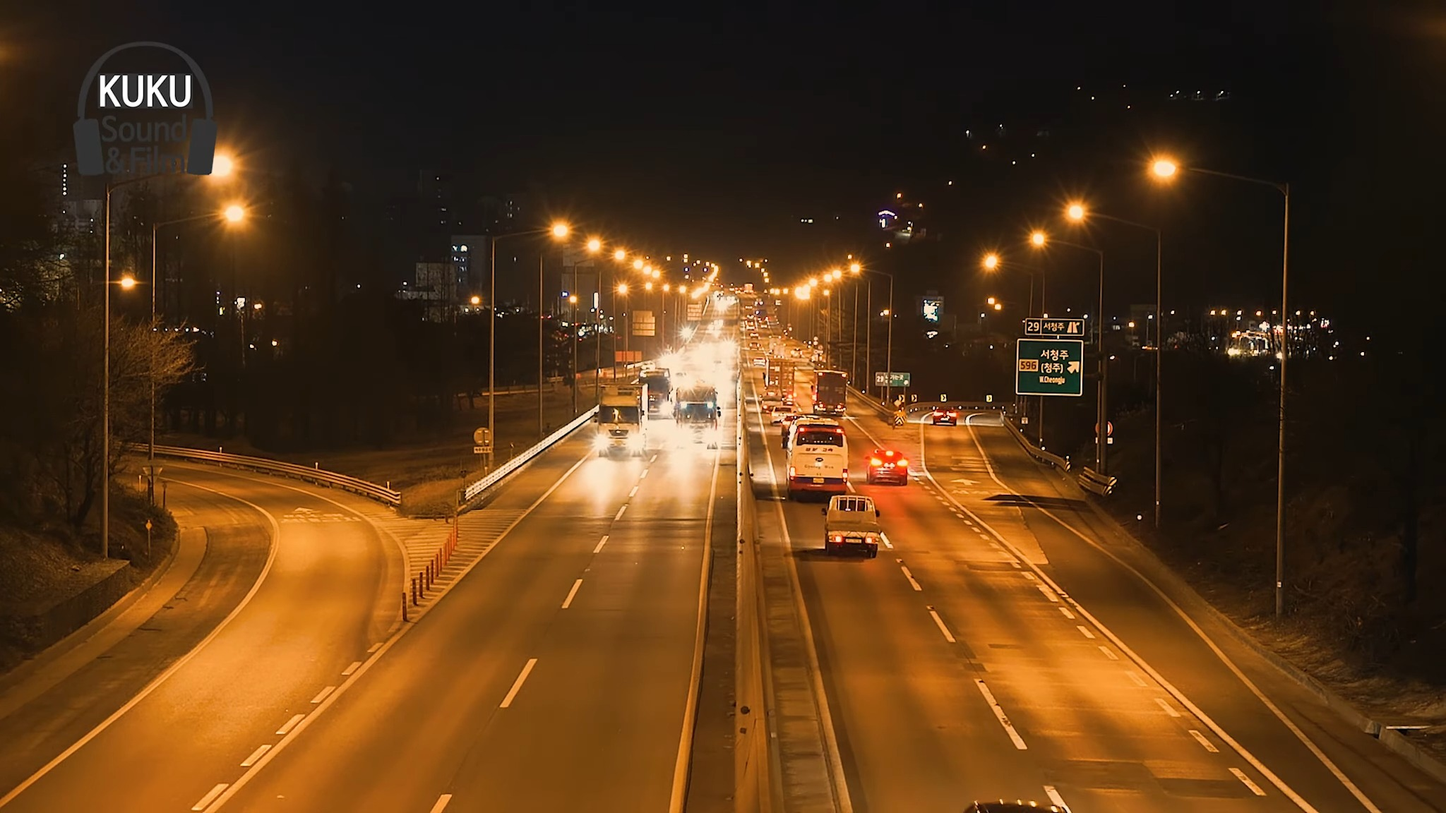car: (784, 413, 854, 505), (862, 445, 914, 490)
truck: (592, 378, 648, 461), (823, 491, 881, 563), (671, 385, 720, 454)
